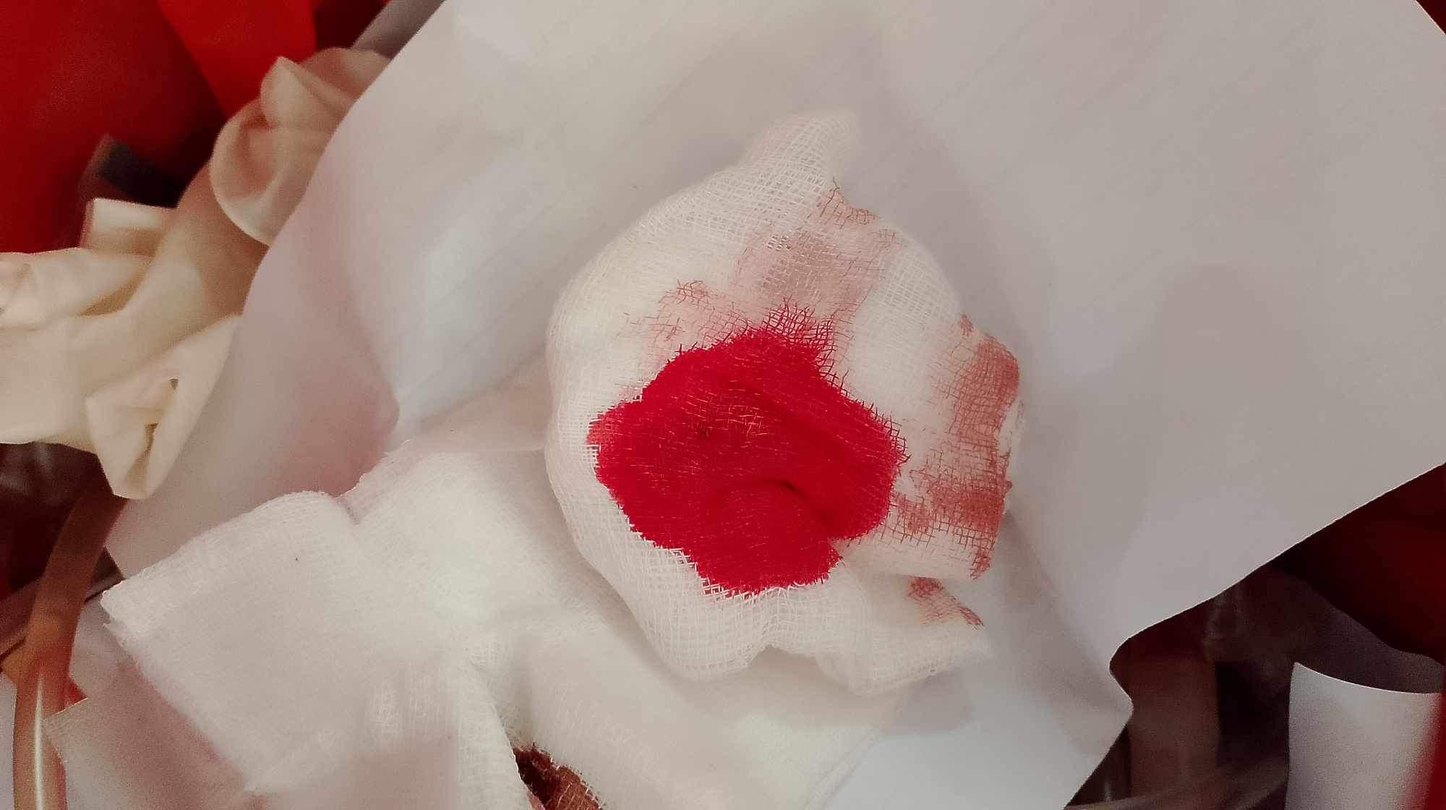General: (6, 4, 1439, 806)
Infectious: (541, 106, 1024, 694)
